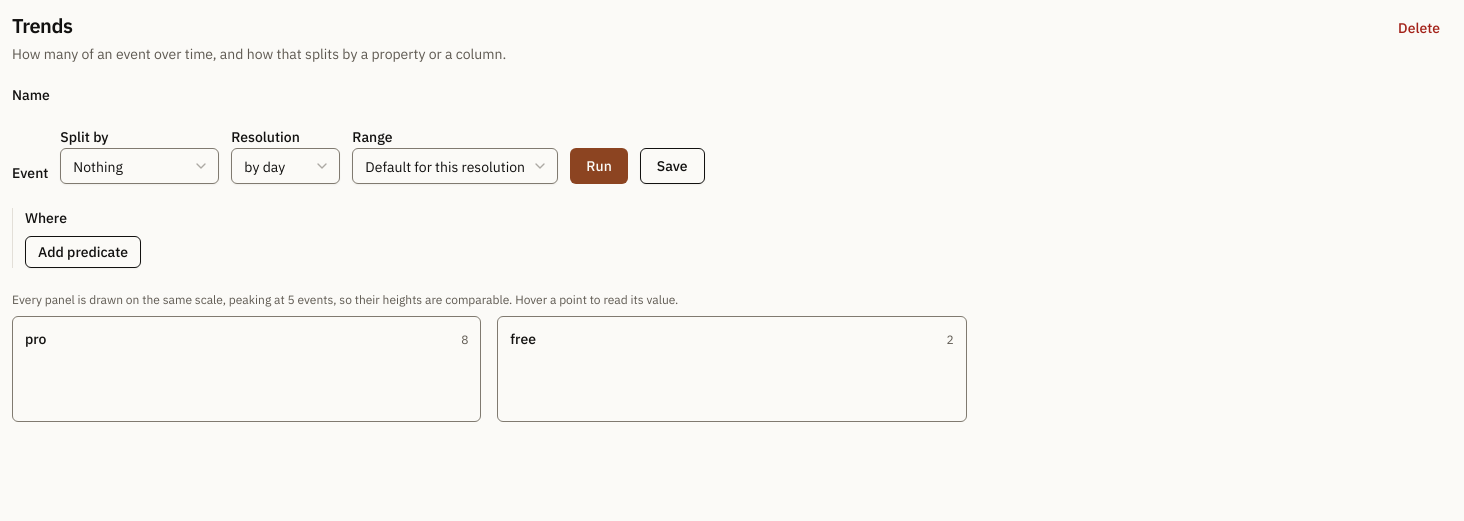
it: Trends -- delete › cancelling the confirmation leaves the report in place
What coordinates should you click on to do the following:
click the button "Delete"
I would click on:
 (1419, 28)
Its box is [1386,12,1452,44].
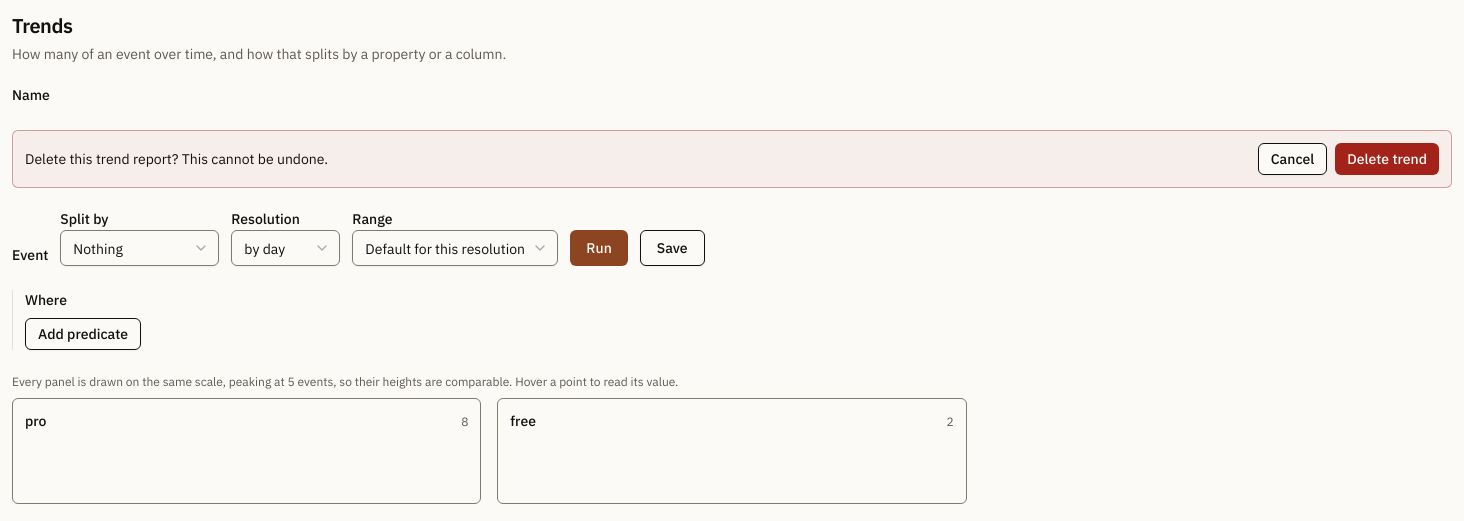
What coordinates should you click on to do the following:
click the button "Cancel"
I would click on:
 (1292, 159)
Its box is [1258,143,1327,175].
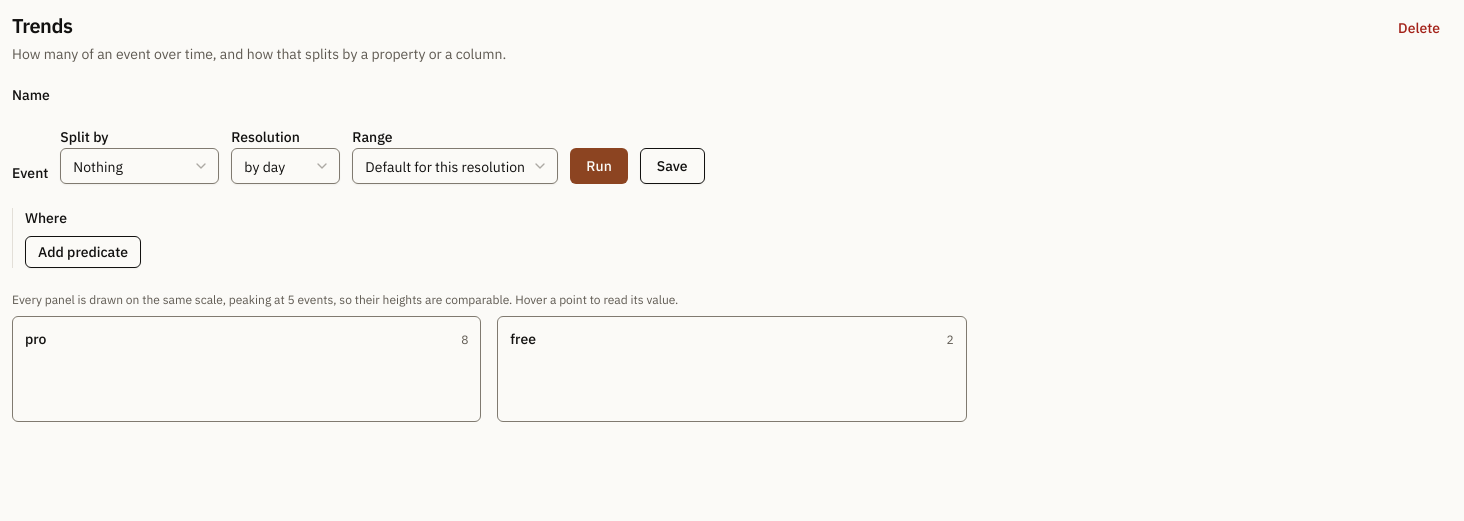
Expected: the button "Delete" is shown, [1386,12,1452,44]
Result: the text "Delete this trend report?" is gone
